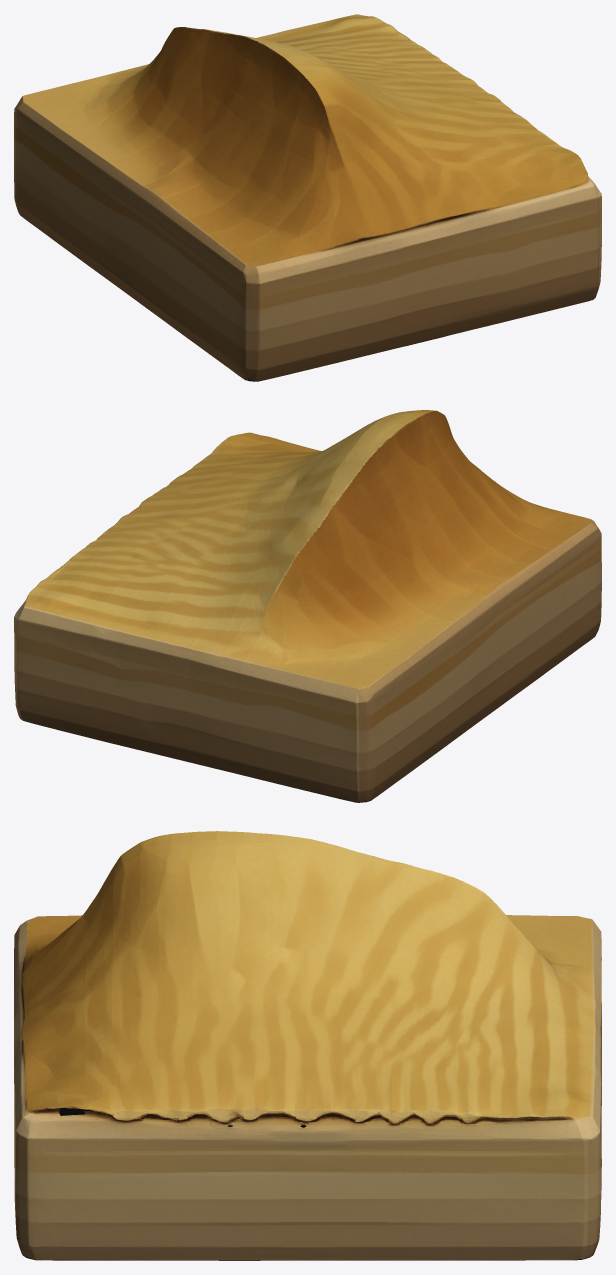
3 views of the same model, one above another, from view 1: azimuth 30°, elevation 25°; view 2: azimuth 150°, elevation 25°; view 3: azimuth 270°, elevation 25° (orthographic). The views are drawn at different scales.
Parts seen in each view (by area): view 1: world; view 2: world; view 3: world.
Boxes of the visible parts, box(x1,y1,x2,y2) form: world: box(14, 14, 601, 381); world: box(14, 410, 601, 802); world: box(14, 831, 601, 1260).
Size of the model in its own units: 25.74 by 16.35 by 30.
Materials: 1 (1 with a texture image).
